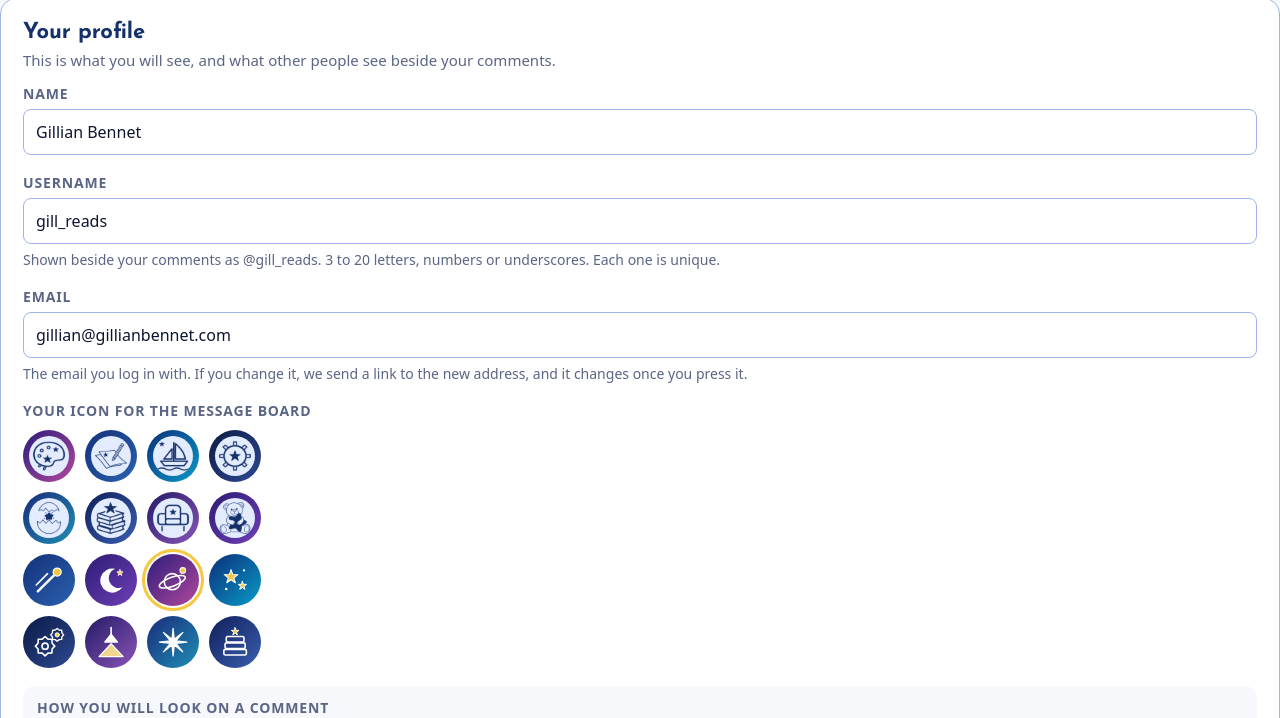
Test: saving › refuses a bad username before asking the server, in plain words
Replace the text in the field labelled "Username" with "a b" at coordinates (640, 221), box [23,198,1257,244]
(page scrolled)
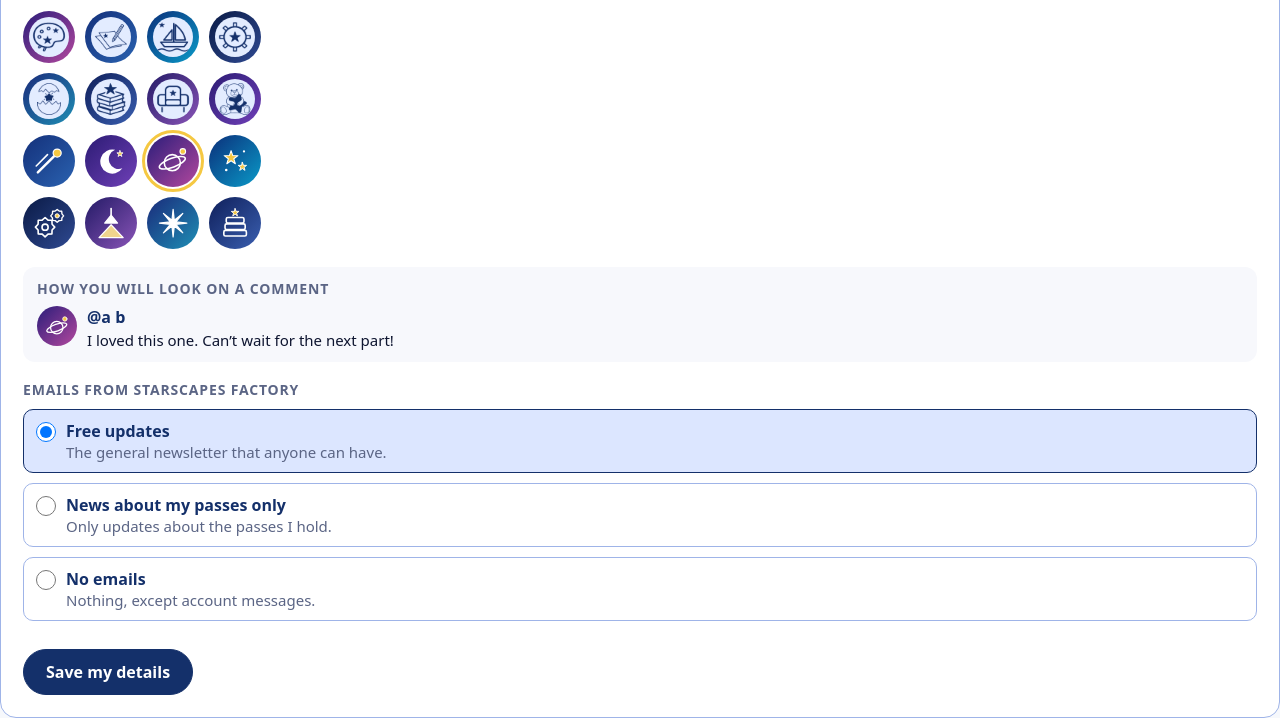
Click the button "Save my details" at coordinates (108, 672), box [23,649,193,695]
(page scrolled)
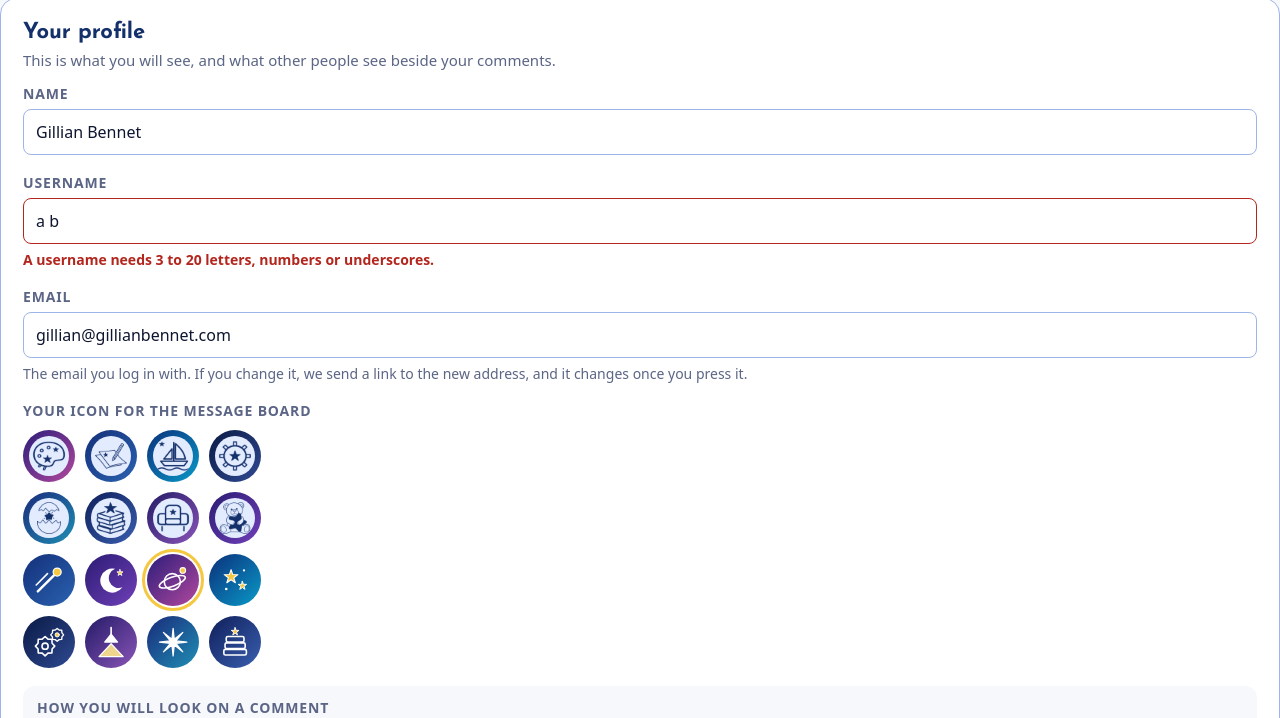
Now the message reads "A username needs 3 to 20 letters, numbers or underscores.", box [23,250,434,269]
